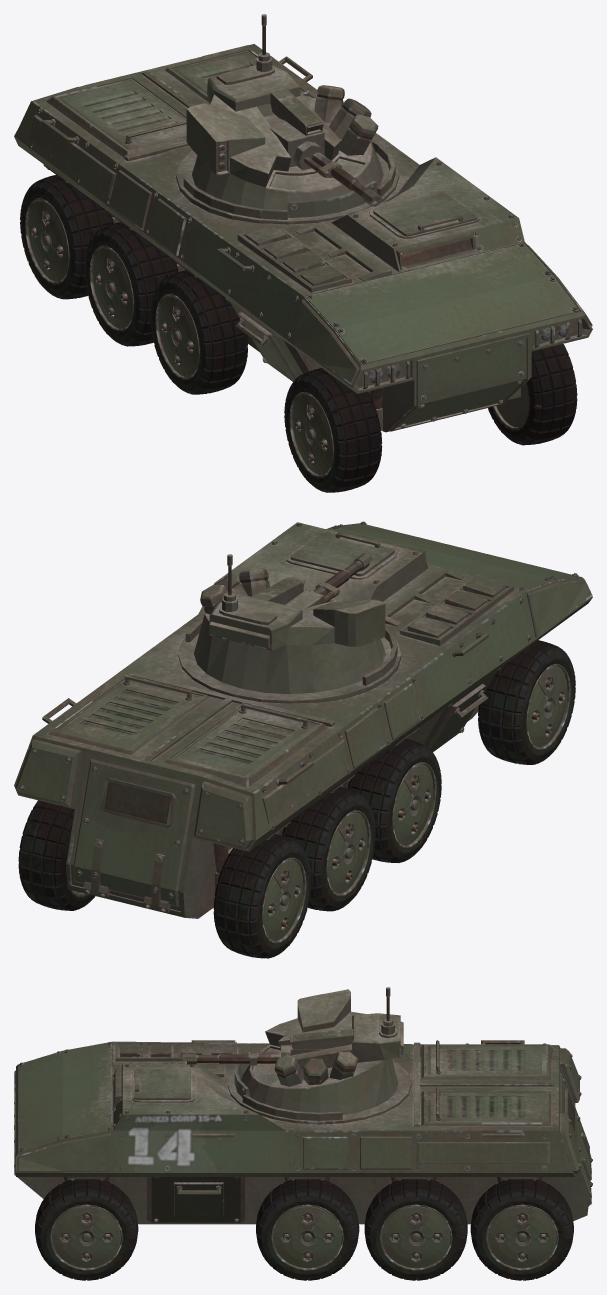
File: armored_troop_carrier.obj
3 renders of one model, top to bottom at view 1: azimuth 30°, elevation 25°; view 2: azimuth 150°, elevation 25°; view 3: azimuth 270°, elevation 25°, orthographic. The views are drawn at different scales.
Parts seen in each view (by area): view 1: armored_car_TIRE_0; view 2: armored_car_TIRE_0; view 3: armored_car_TIRE_0.
Boxes of the visible parts, x1,y1,x2,y2 form: armored_car_TIRE_0: (14, 14, 592, 492); armored_car_TIRE_0: (14, 521, 592, 958); armored_car_TIRE_0: (14, 987, 592, 1280).
Size of the model in its own units: 2.91 by 3.5 by 7.2.
Materials: 1 (1 with a texture image).
